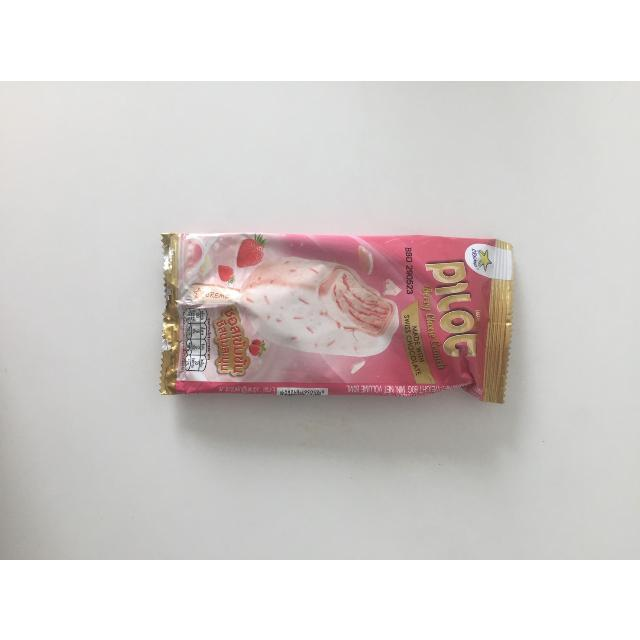Paquete de plastico: (160, 235, 514, 402)
